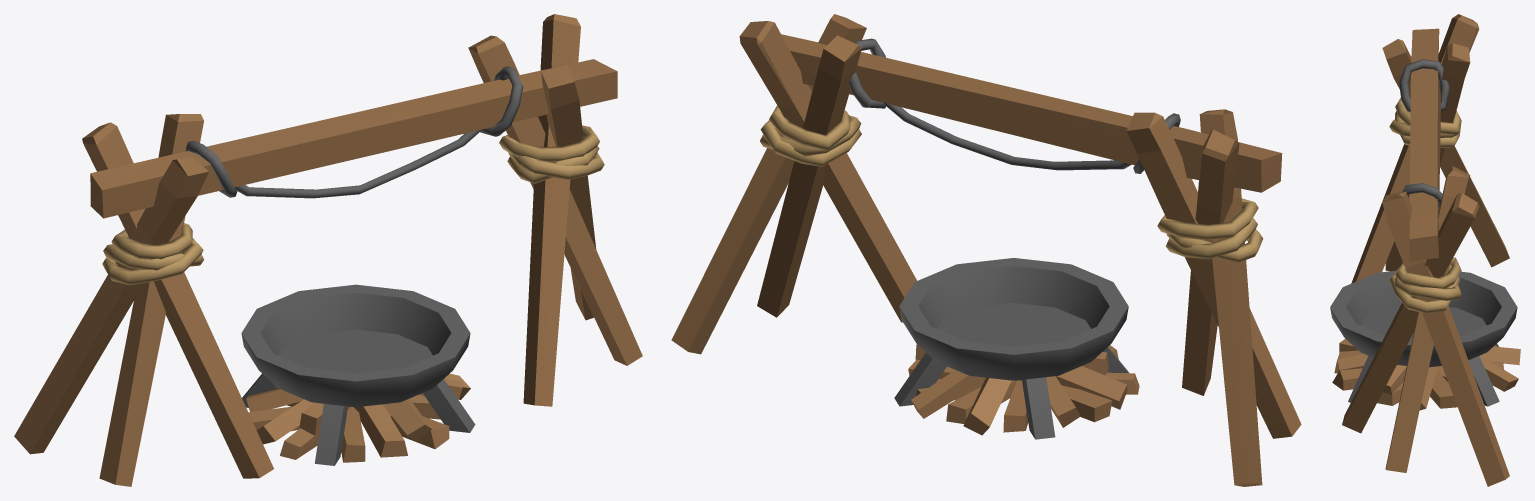
The model's file is Cook_A.fbx.
3 views of the same model, side by side, from view 1: azimuth 30°, elevation 25°; view 2: azimuth 150°, elevation 25°; view 3: azimuth 270°, elevation 25° (orthographic). The views are drawn at different scales.
Parts seen in each view (by area): view 1: Cook_A; view 2: Cook_A; view 3: Cook_A.
Boxes of the visible parts, left/top/right/bottom form: Cook_A: left=14, top=14, right=642, bottom=486; Cook_A: left=671, top=14, right=1301, bottom=486; Cook_A: left=1330, top=14, right=1520, bottom=486.
Bounding box in the file's own units: 287 × 156 × 99.33.
